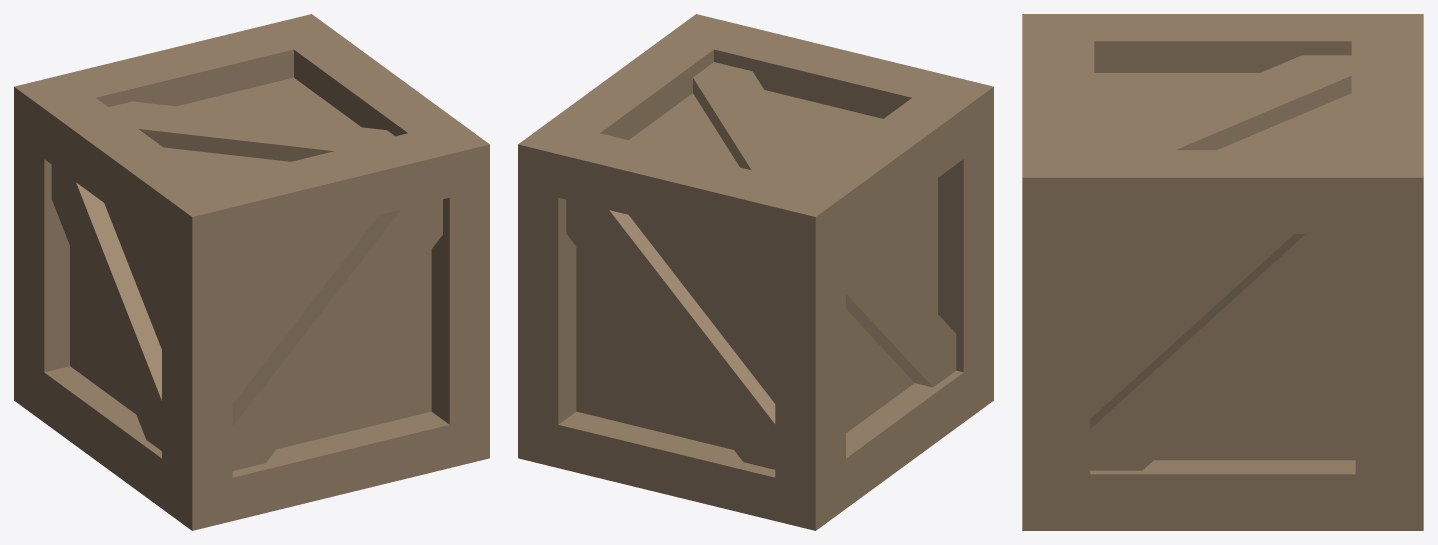
The picture shows the model from 3 angles, left to right: view 1: azimuth 30°, elevation 25°; view 2: azimuth 150°, elevation 25°; view 3: azimuth 270°, elevation 25°; orthographic projection. The views are drawn at different scales.
Visible parts, largest first — view 1: Cube.012; view 2: Cube.012; view 3: Cube.012.
Boxes of the visible parts, left/top/right/bottom form: Cube.012: left=14, top=14, right=489, bottom=530; Cube.012: left=518, top=14, right=993, bottom=530; Cube.012: left=1022, top=14, right=1423, bottom=530.
Size of the model in its own units: 83.09 by 83.7 by 86.14.
